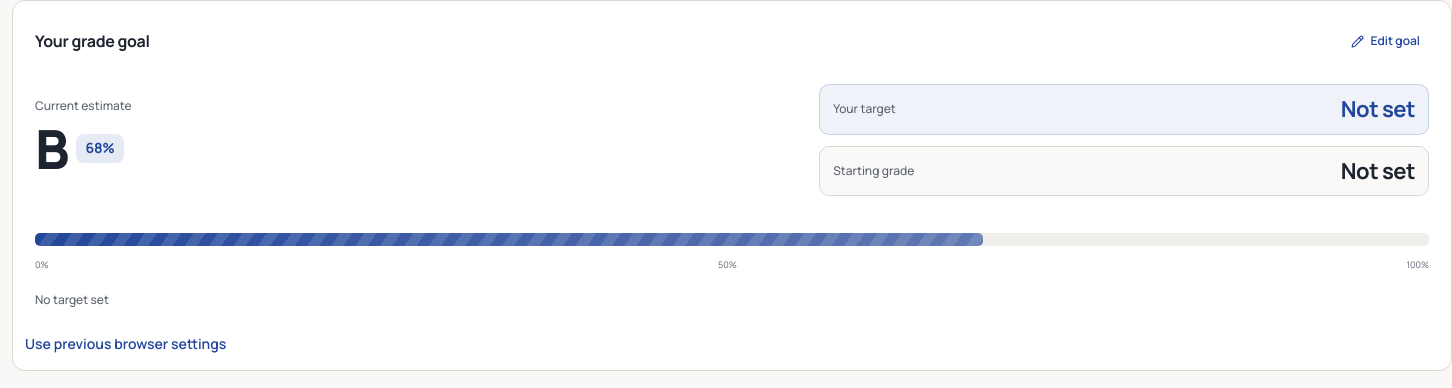
Test case: keeps an old subject-name browser target untouched until the user explicitly imports it
This screenshot has width=1452, height=388.
Check: the text "Not set" in the row of "Your target" is shown, box [1341,94,1415,124]
Click the button "Use previous browser settings".
click(126, 344)  # box [13,324,238,364]
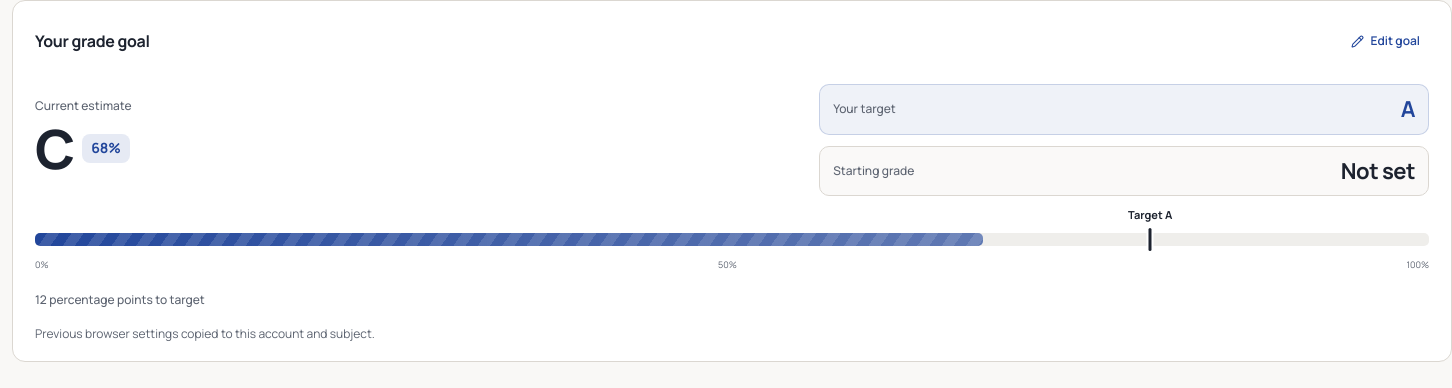
Check: the icon named "Target at 80%" is shown, box [1149,228,1152,251]
